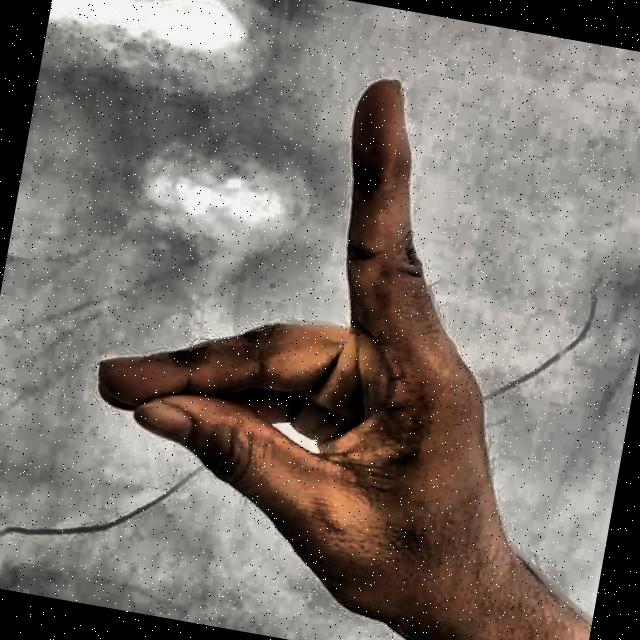Dha: (44, 0, 605, 640)
